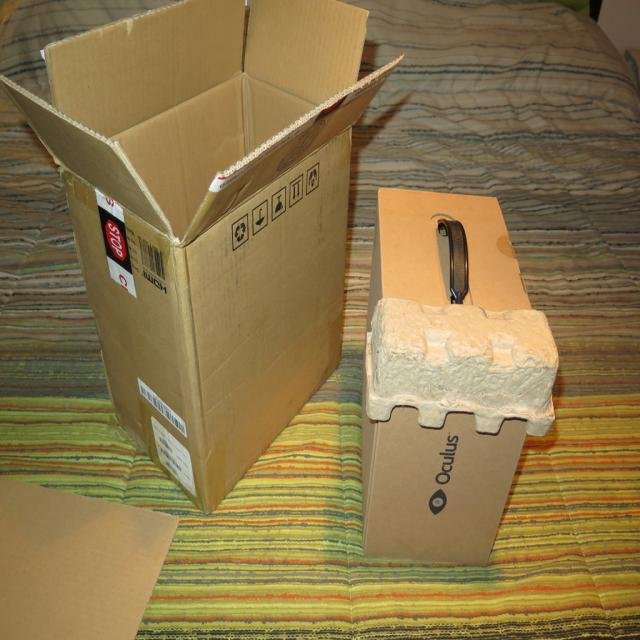Box: (0, 0, 405, 519), (356, 188, 560, 559), (0, 472, 182, 640)
